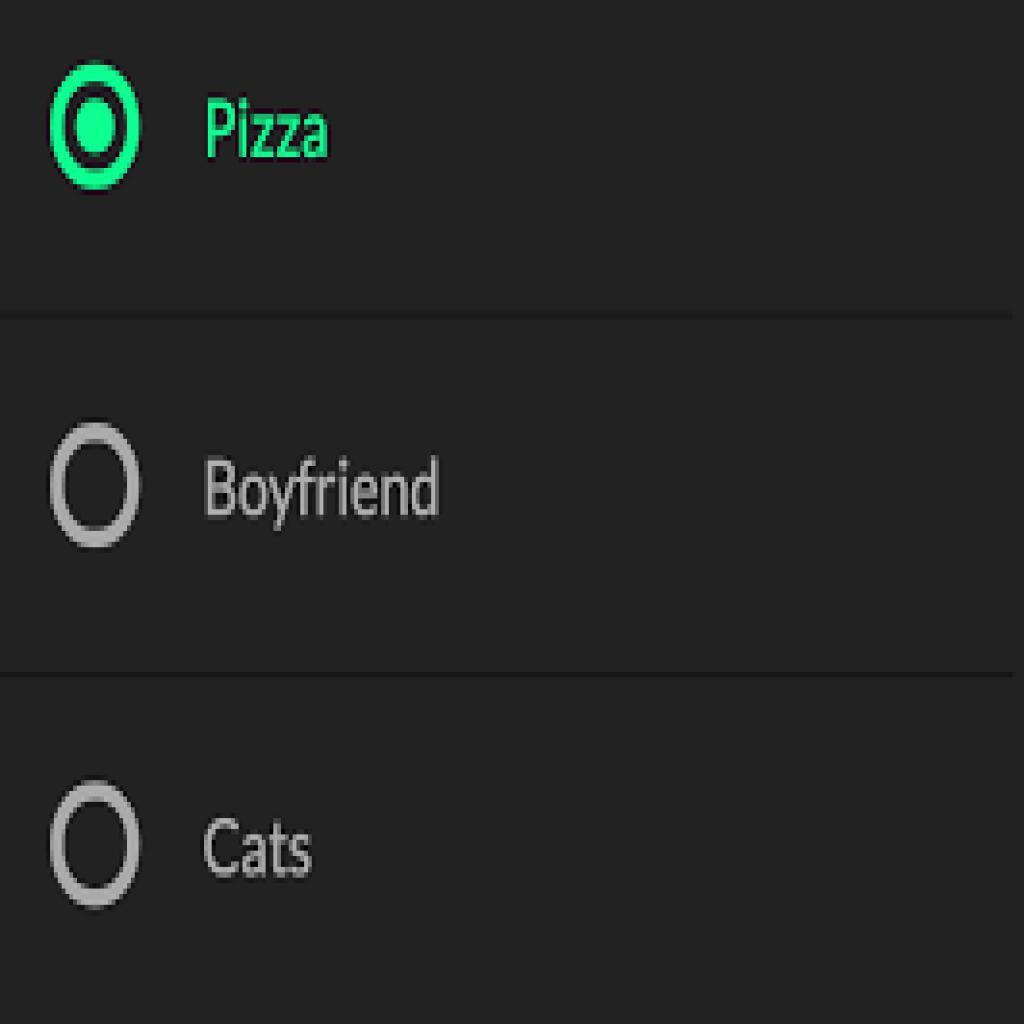radio: (43, 772, 147, 928), (43, 60, 152, 206), (46, 407, 147, 556)
